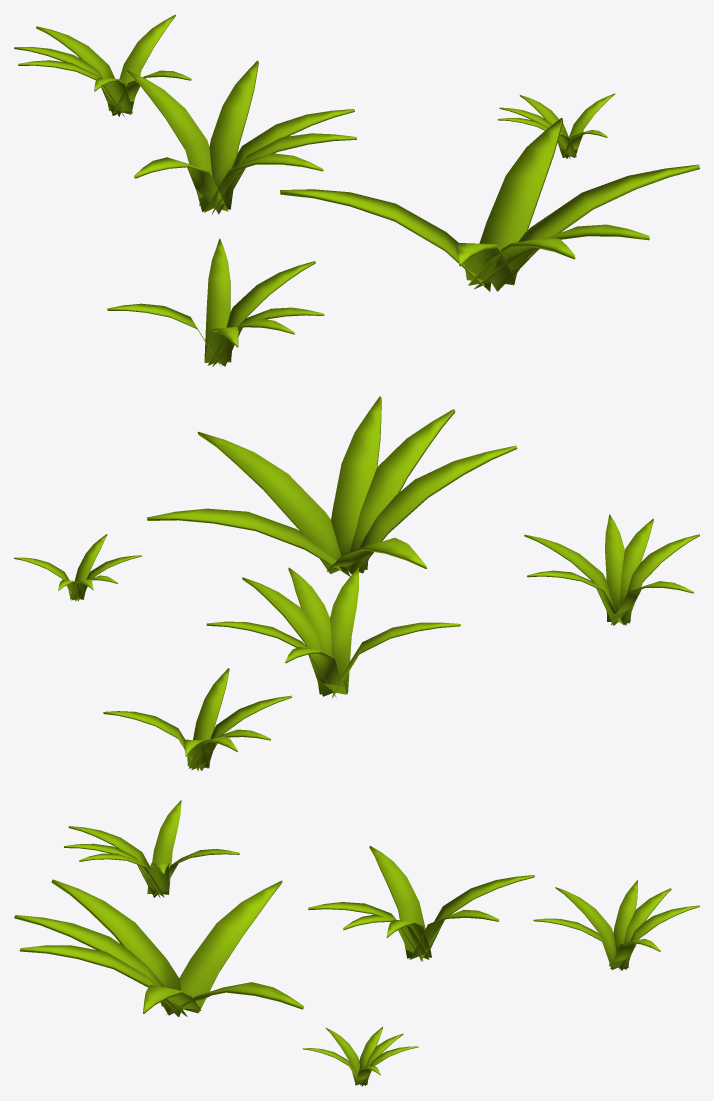
Rendered from Grass_01.fbx.
The picture shows the model from 3 angles, top to bottom: view 1: azimuth 30°, elevation 25°; view 2: azimuth 150°, elevation 25°; view 3: azimuth 270°, elevation 25°; orthographic projection. The views are drawn at different scales.
Parts seen in each view (by area): view 1: Grass_01; view 2: Grass_01; view 3: Grass_01.
Part boxes in pixels (x1,y1,x2,y2): Grass_01: (14,14,699,366); Grass_01: (14,396,699,771); Grass_01: (14,800,699,1086).
Bounding box in the file's own units: 130 × 20.71 × 149.
